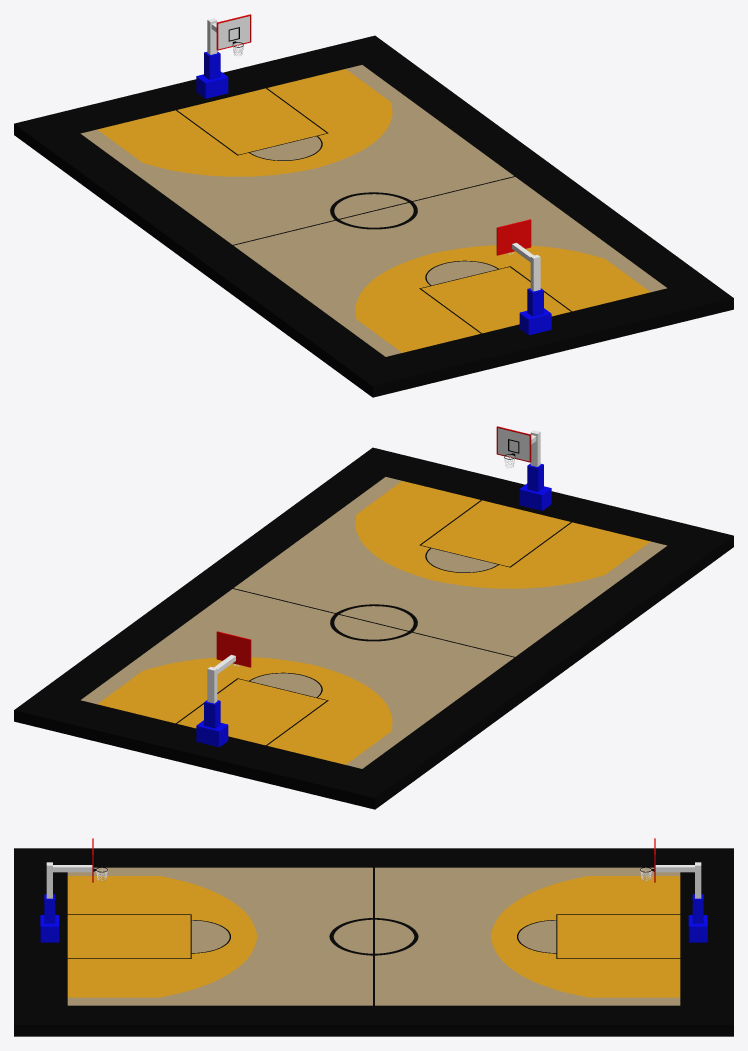
File: basketball-court.fbx
3 renders of one model, top to bottom at view 1: azimuth 30°, elevation 25°; view 2: azimuth 150°, elevation 25°; view 3: azimuth 270°, elevation 25°, orthographic.
Parts seen in each view (by area): view 1: court-floor, ringstand.002, board.002; view 2: court-floor, ringstand.002, board.002; view 3: court-floor, ringstand.002.
Part boxes in pixels (<box>): court-floor: <box>14,35,733,397</box>; ringstand.002: <box>196,18,551,335</box>; board.002: <box>216,14,531,255</box>; court-floor: <box>14,447,733,809</box>; ringstand.002: <box>196,430,551,747</box>; board.002: <box>216,426,531,667</box>; court-floor: <box>14,848,733,1036</box>; ringstand.002: <box>40,862,707,942</box>.
Bounding box in the file's own units: 4399 × 1177 × 7570.
